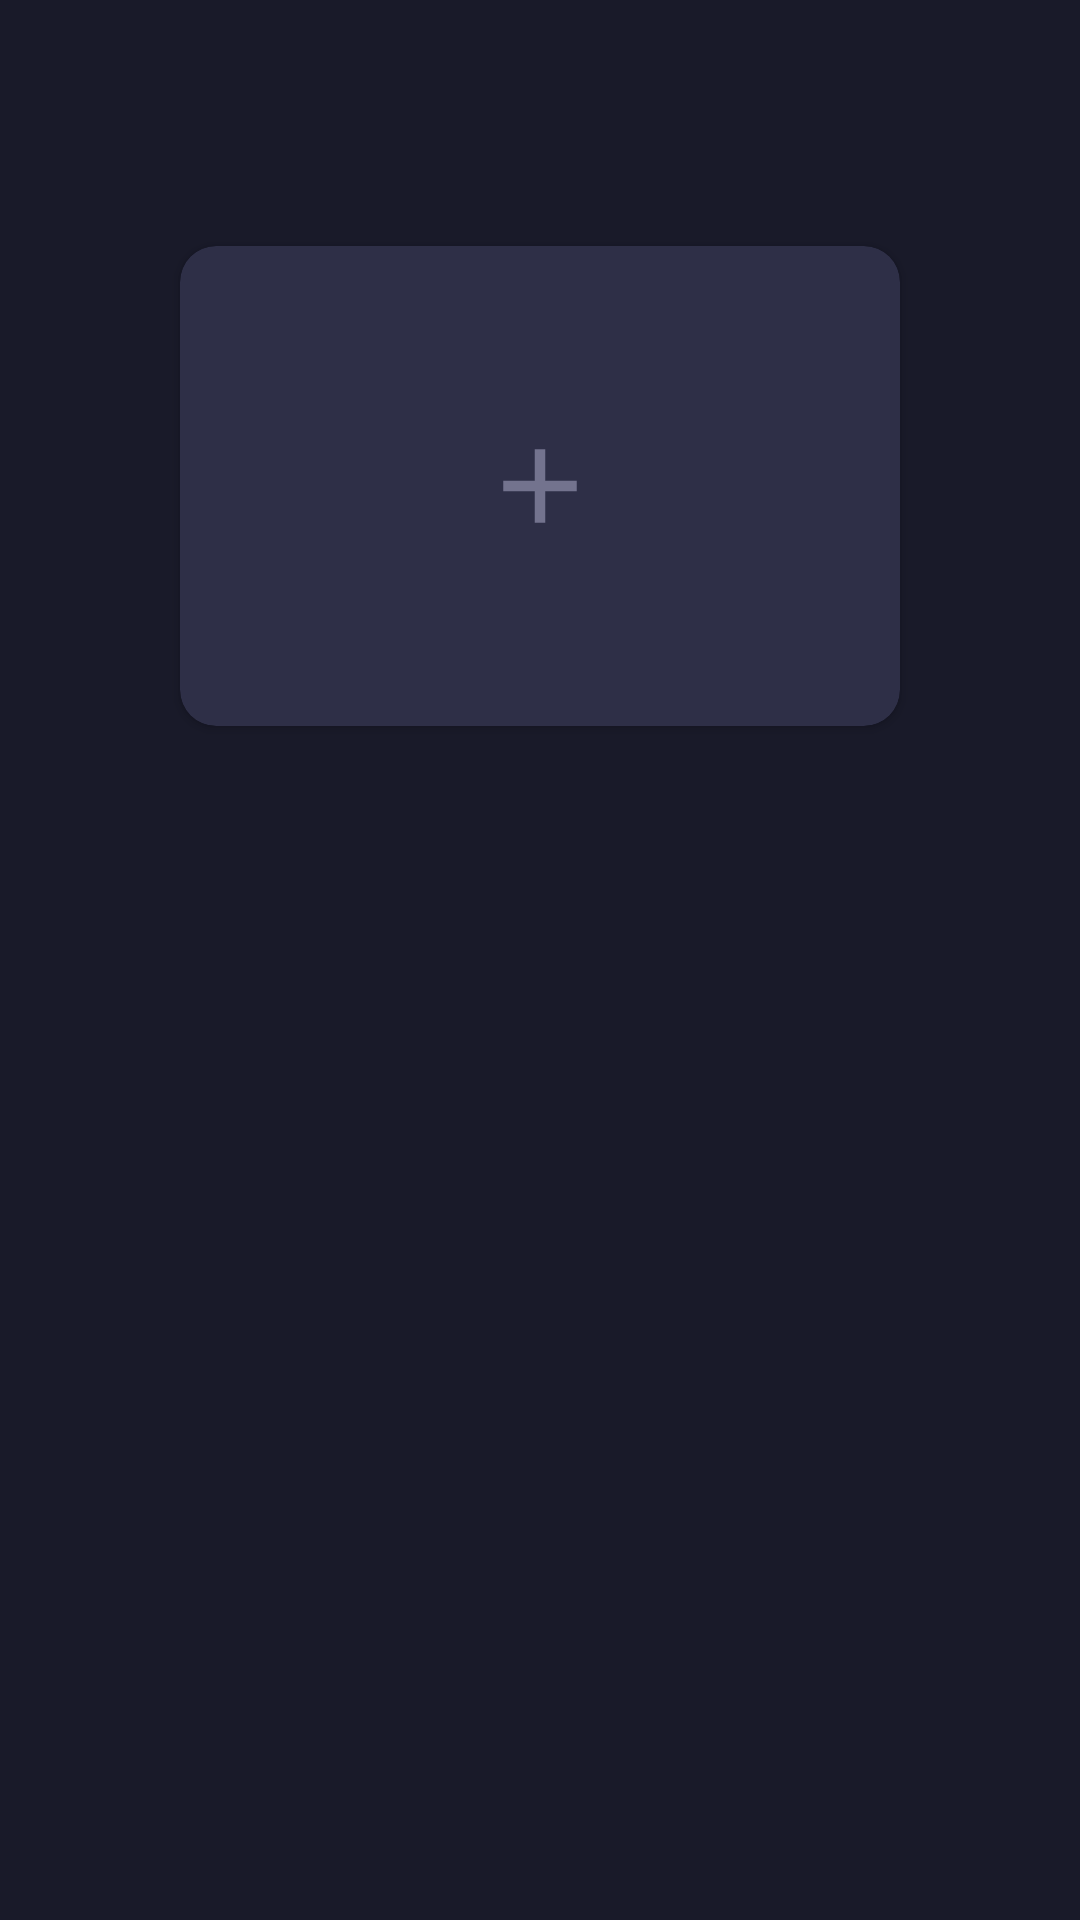

Locate icon controls on the screen. Image size 1080x1920, boxes as (x1,y1,x2,y2).
wallet add: (503,449,577,523)
